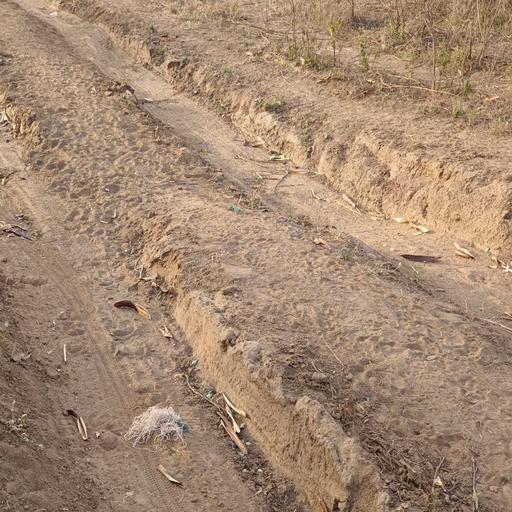vehicle_track: (12, 0, 512, 329), (0, 110, 260, 512)
